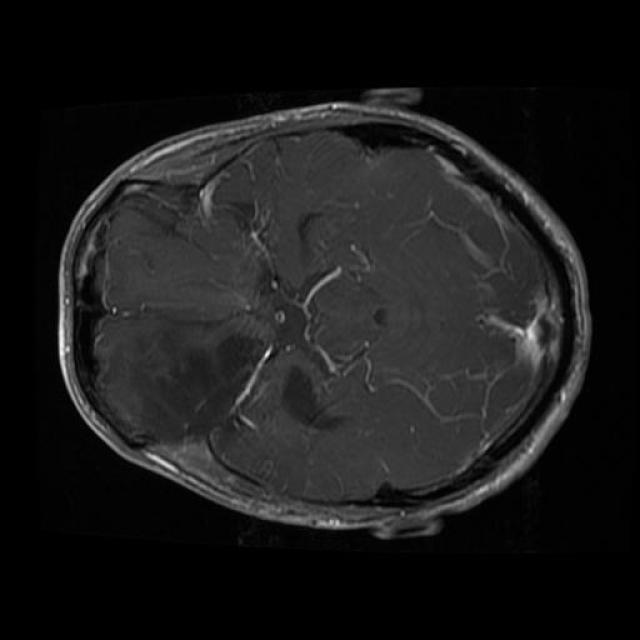Glioma: (143, 329, 268, 443)
